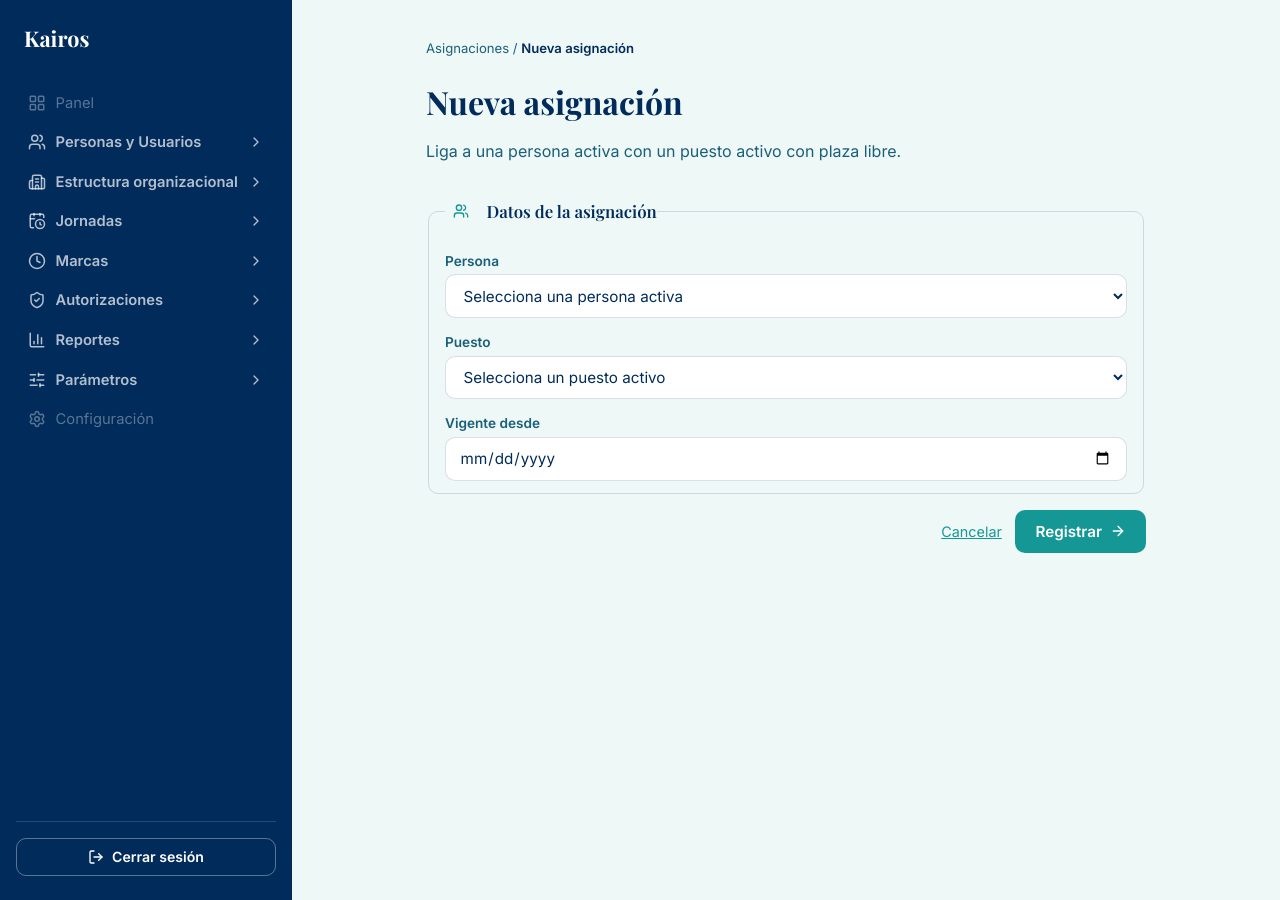
Test case: AltaAsignacionPage › muestra el detail real del backend en 422 (ej. persona ya no activa)
The width and height of the screenshot is (1280, 900).
Select "Persona Ficticia Uno" in the dropdown labelled "Persona" at [786, 296], box [445, 274, 1127, 318]
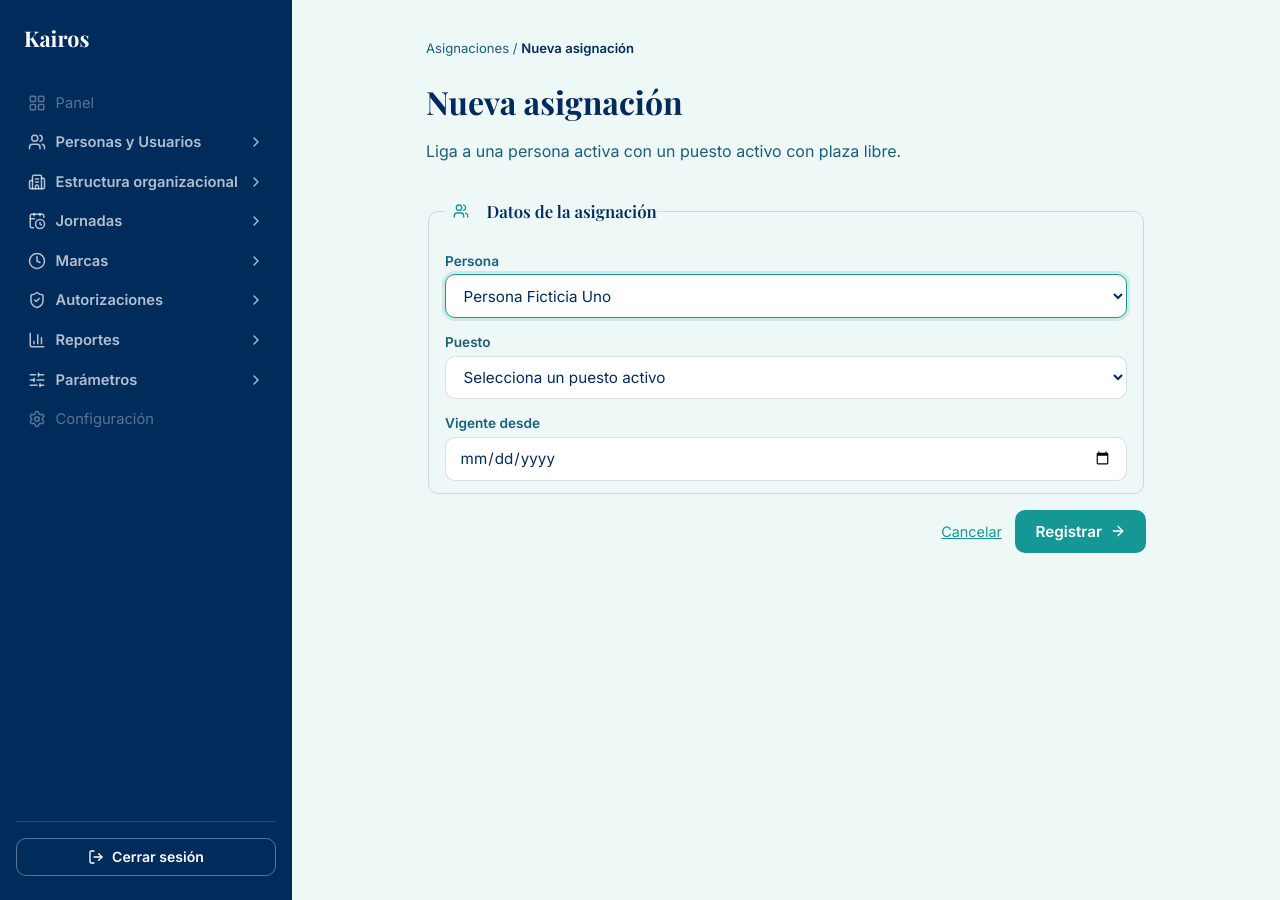
Select "Puesto Ficticio Uno" in the dropdown labelled "Puesto" at [786, 378], box [445, 356, 1127, 399]
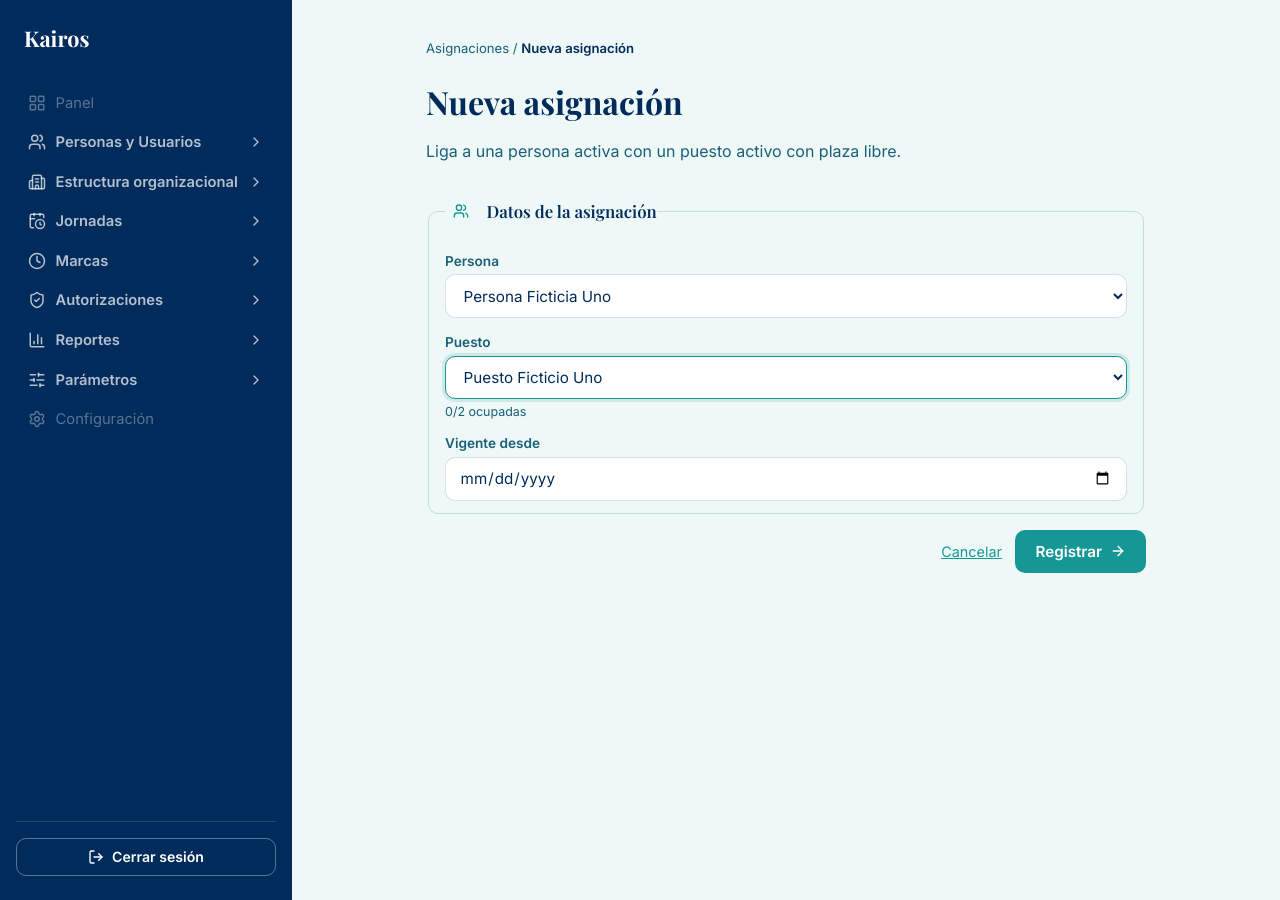
Type "2026-01-01" into the date field labelled "Vigente desde".
click(786, 479); type("2026-01-01")  # box [445, 457, 1127, 500]
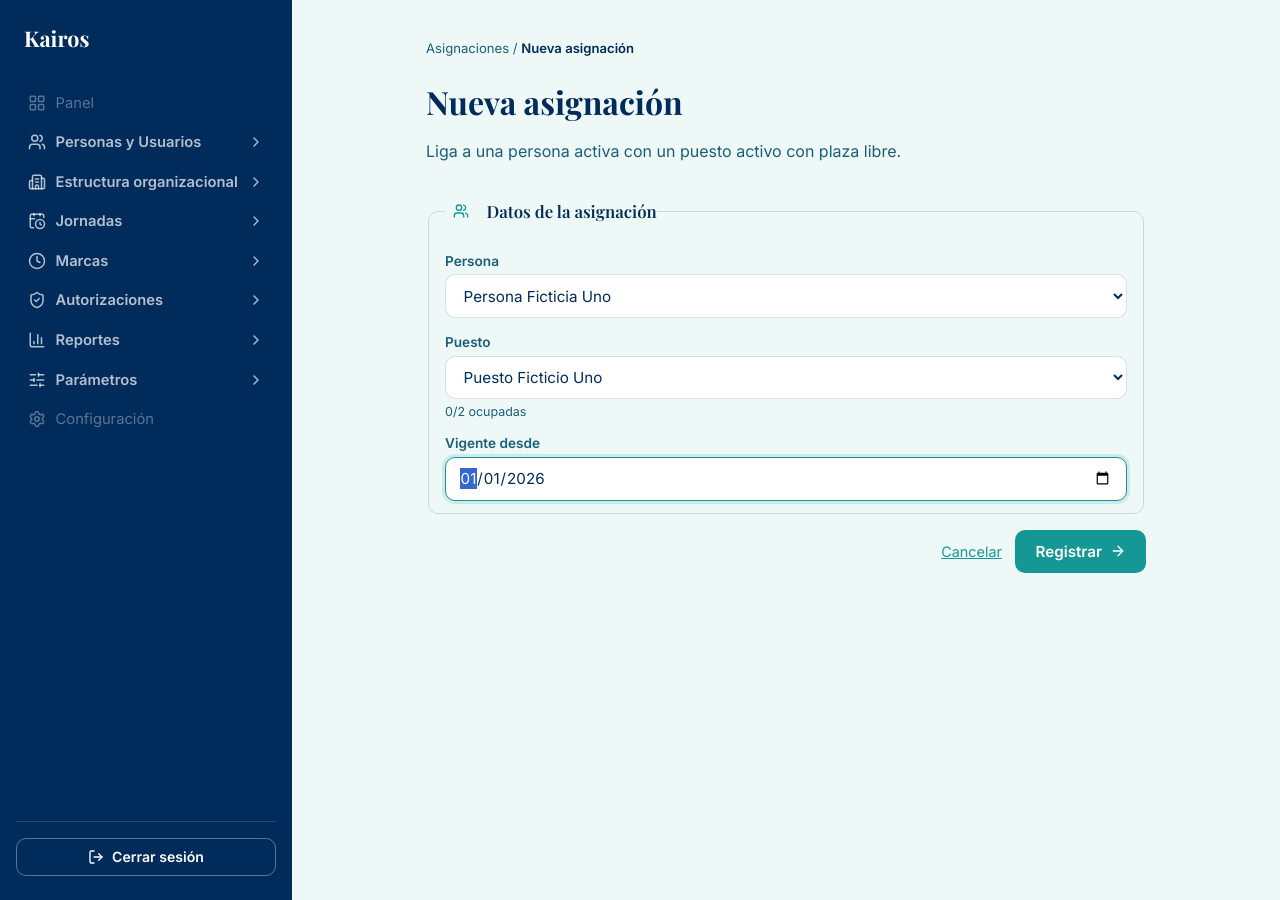
Click the button "Registrar".
click(1081, 551)  # box [1016, 530, 1146, 572]
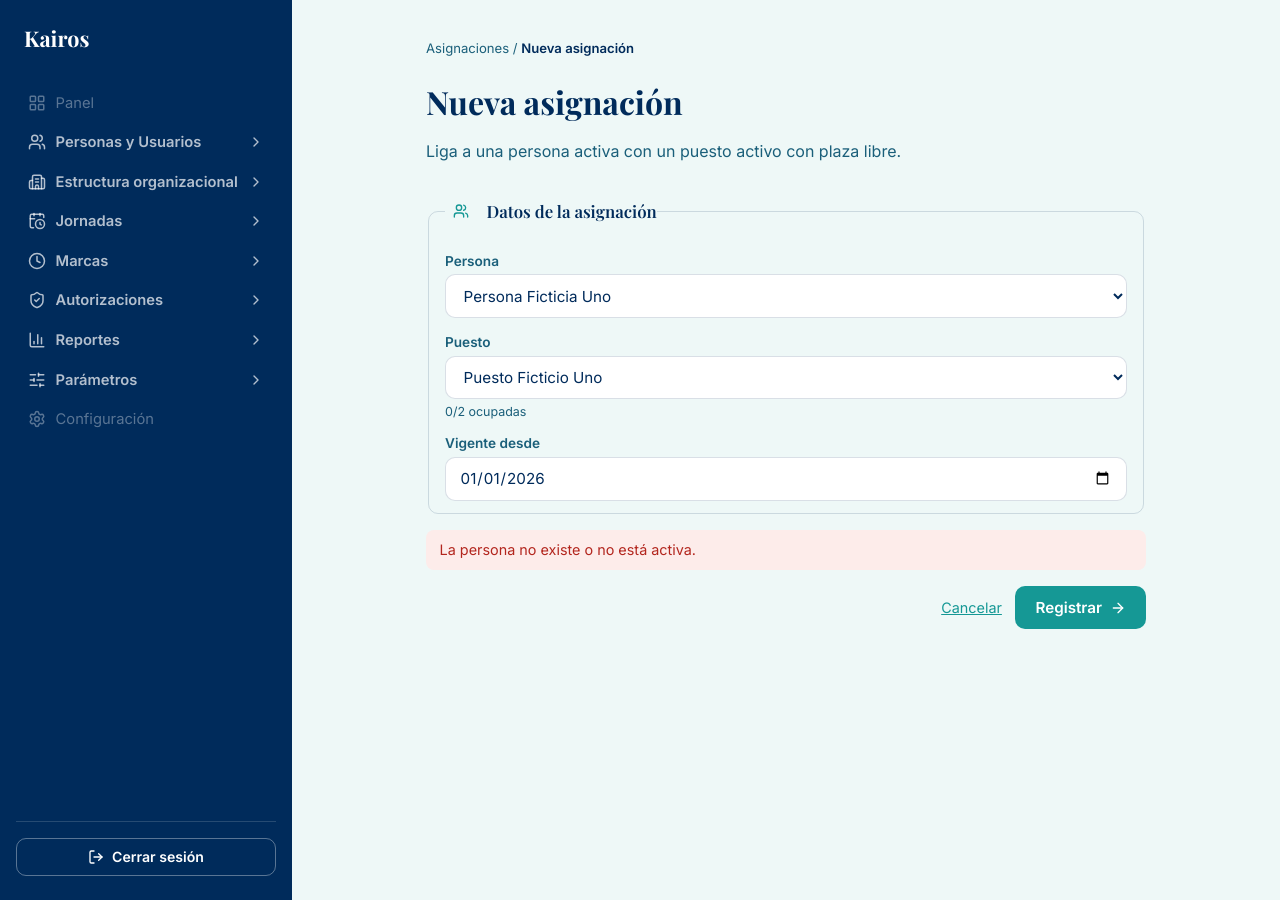
Expected: the text "La persona no existe o no está activa." is shown, [426, 530, 1146, 570]
